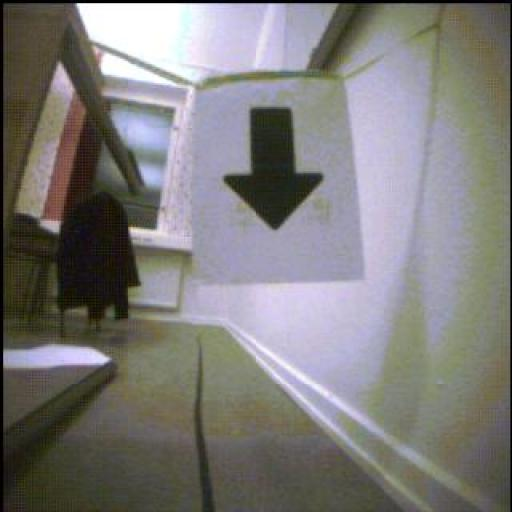arrow: (225, 108, 324, 230)
